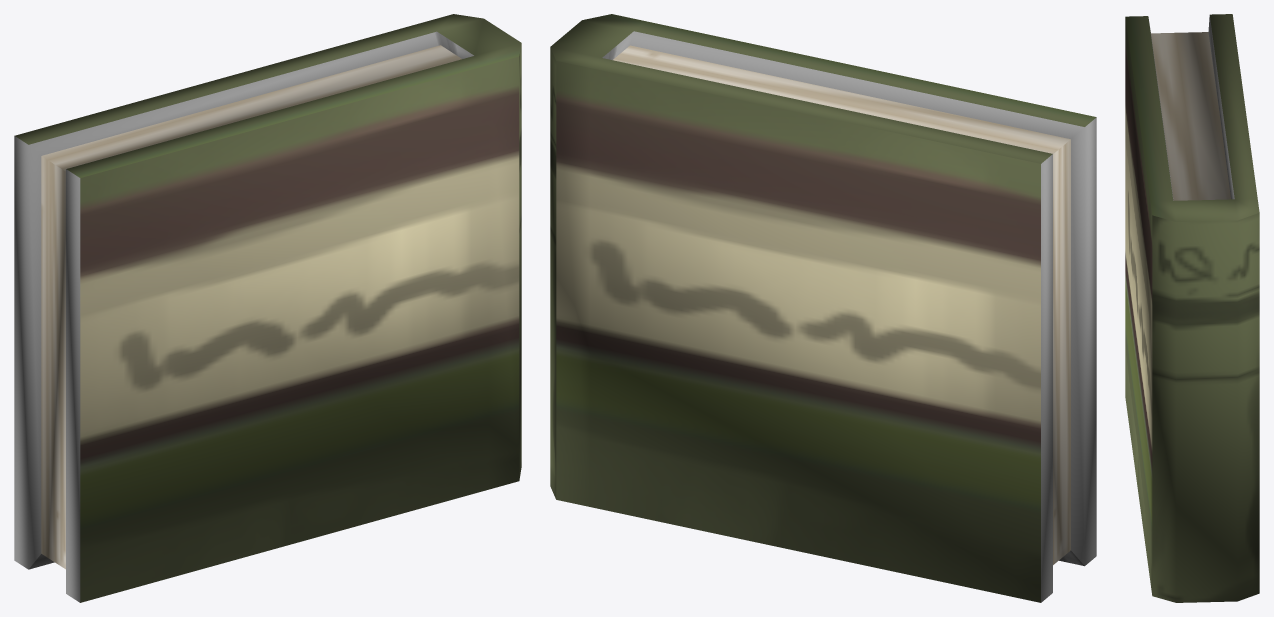
The model's file is Livro5.fbx.
3 renders of one model, left to right at view 1: azimuth 30°, elevation 25°; view 2: azimuth 150°, elevation 25°; view 3: azimuth 270°, elevation 25°, orthographic. The views are drawn at different scales.
Parts seen in each view (by area): view 1: Livro5; view 2: Livro5; view 3: Livro5.
Part boxes in pixels (<box>): Livro5: <box>14,14,521,602</box>; Livro5: <box>550,14,1096,602</box>; Livro5: <box>1125,14,1259,602</box>.
Bounding box in the file's own units: 63.64 × 17.35 × 54.32.
